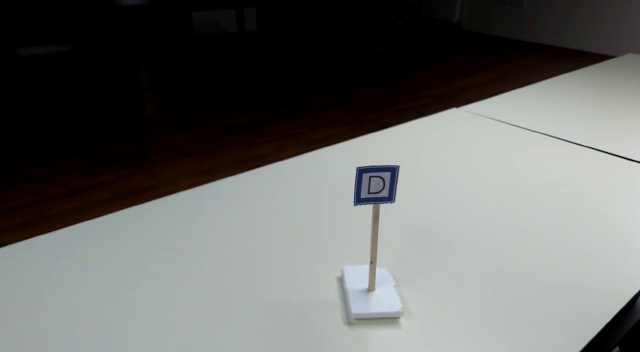durak: (349, 165, 400, 207)
